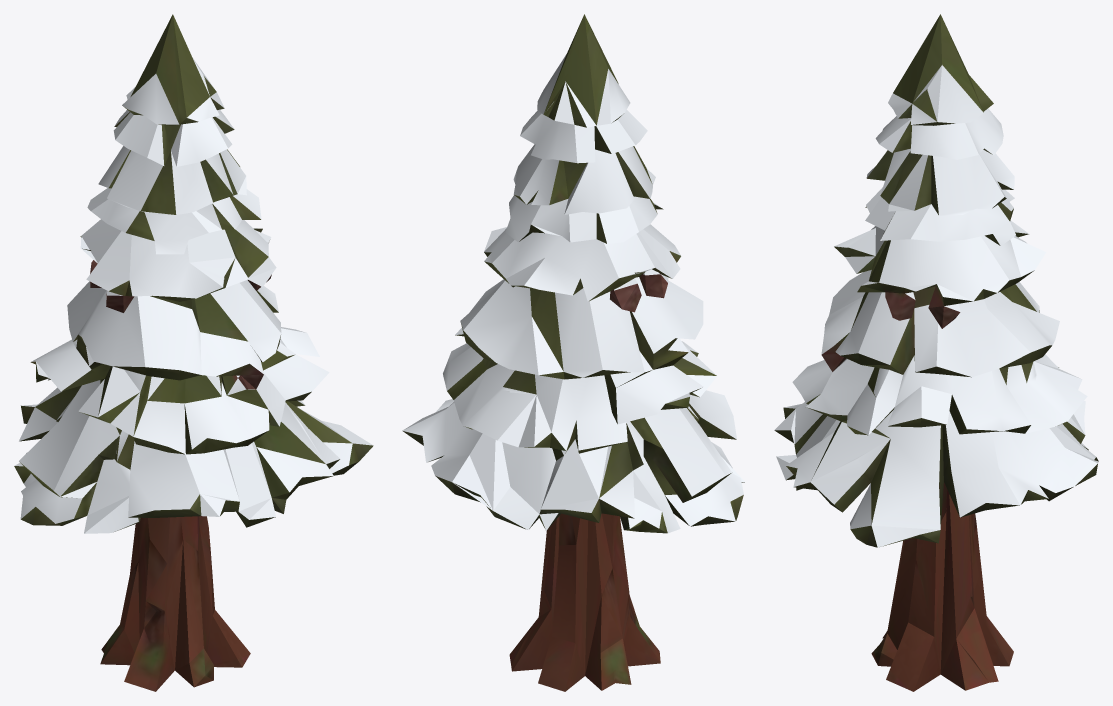
Rendered from bg_snow_pine_1_lod0.glb.
3 views of the same model, side by side, from view 1: azimuth 30°, elevation 25°; view 2: azimuth 150°, elevation 25°; view 3: azimuth 270°, elevation 25° (orthographic).
Parts seen in each view (by area): view 1: sway, body; view 2: sway, body; view 3: sway, body.
Part boxes in pixels (left/top/right/bottom): sway: left=14, top=14, right=373, bottom=533; body: left=90, top=229, right=271, bottom=691; sway: left=402, top=14, right=745, bottom=533; body: left=509, top=273, right=744, bottom=691; sway: left=774, top=14, right=1098, bottom=547; body: left=821, top=284, right=1013, bottom=691.
Bounding box in the file's own units: 3.13 × 6.01 × 2.73.
2 materials, 1 textured.
